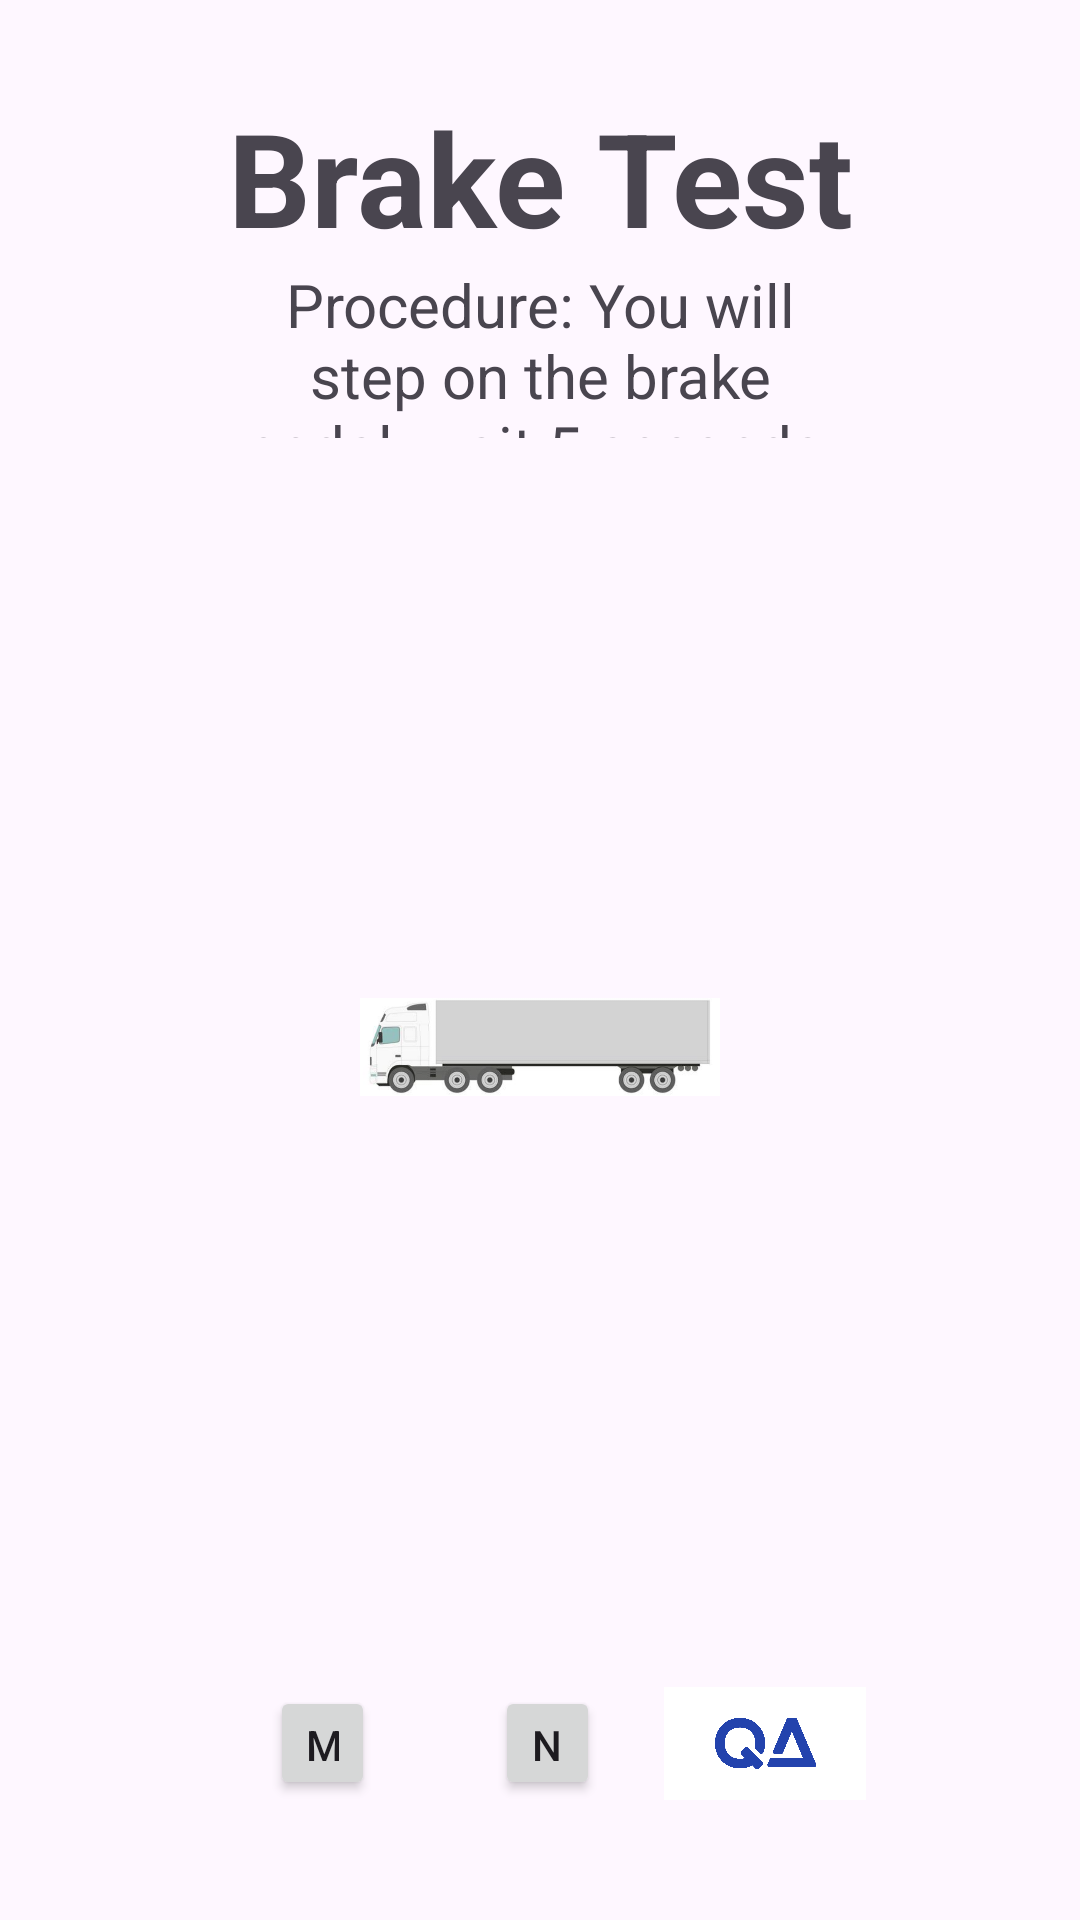

Icon bounding boxes for this 1080w x 1920h phone screenshot, format (x1, y1, x2, y2):
truck: (370, 1000, 710, 1093)
